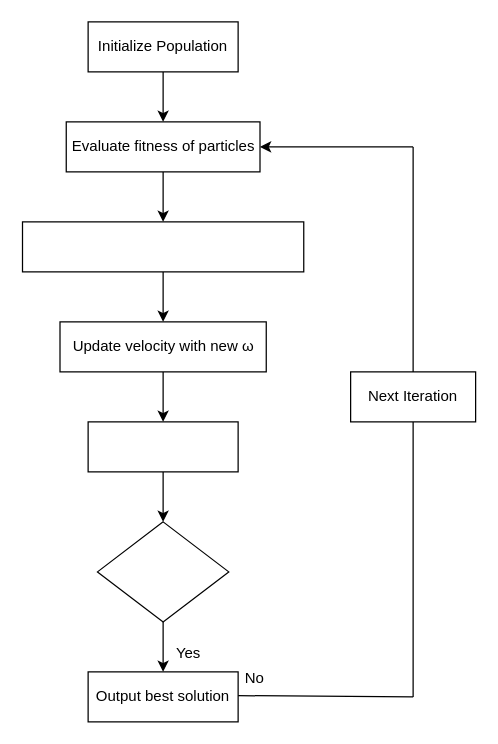
Image size: 498x744. Some labels were removed from this diagram. The centre of each missing label's shape, as x and y in pixels:
Max iterations reached?: the point at 162,571
Update inertia weight (ω) using Eq. (1): the point at 162,246
Update particle positions: the point at 162,446
